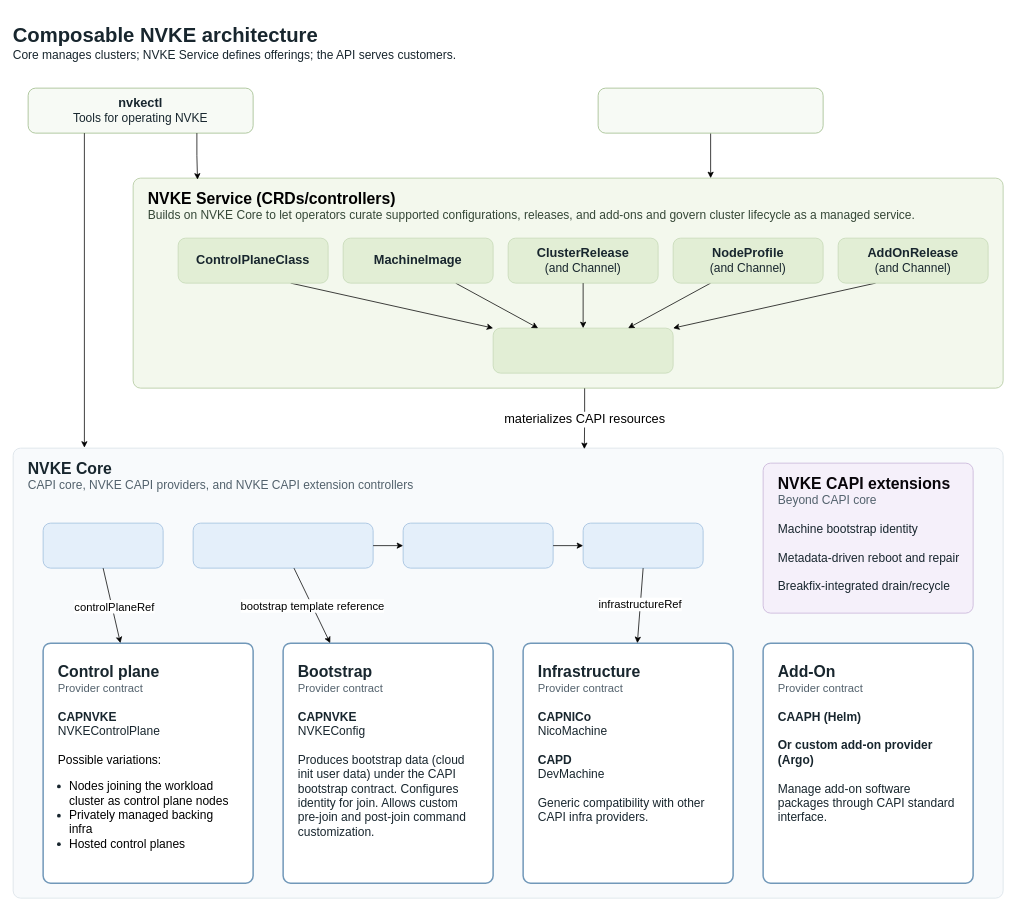
Some shapes in this 1016 by 911 pixel diagram are drawn without their labels. Here are the shapes that lost their labels. From the top down, the centre of each, then its label:
point 710,110: NVKE API Tenancy-aware authn/authz
point 582,350: NVKE Cluster (with node pools, add-ons)
point 102,545: CAPI Cluster
point 282,545: MachineDeployment
point 477,545: MachineSet
point 642,545: Machine
